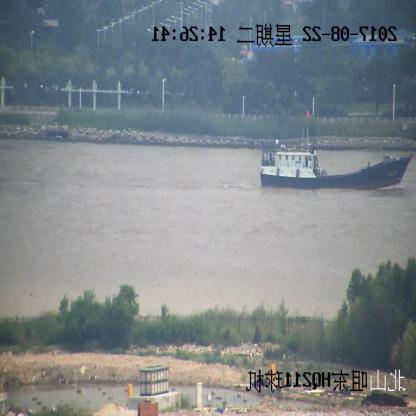Fishing Boat: (260, 114, 412, 191)
